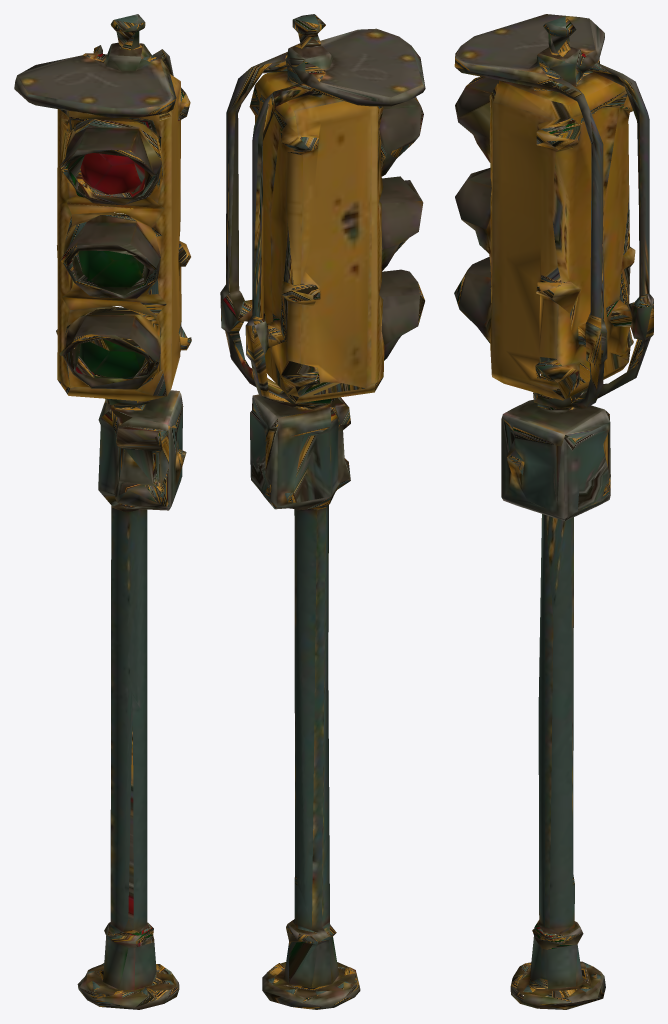
Rendered from signal.glb.
3 renders of one model, left to right at view 1: azimuth 30°, elevation 25°; view 2: azimuth 150°, elevation 25°; view 3: azimuth 270°, elevation 25°, orthographic.
Parts seen in each view (by area): view 1: tripo_node_f03f0de7; view 2: tripo_node_f03f0de7; view 3: tripo_node_f03f0de7.
Boxes of the visible parts, left/top/right/bottom form: tripo_node_f03f0de7: left=14, top=14, right=191, bottom=1009; tripo_node_f03f0de7: left=220, top=14, right=425, bottom=1009; tripo_node_f03f0de7: left=454, top=14, right=653, bottom=1009.
Bounding box in the file's own units: 18.63 × 97.85 × 18.3.
Materials: 1 (1 with a texture image).
